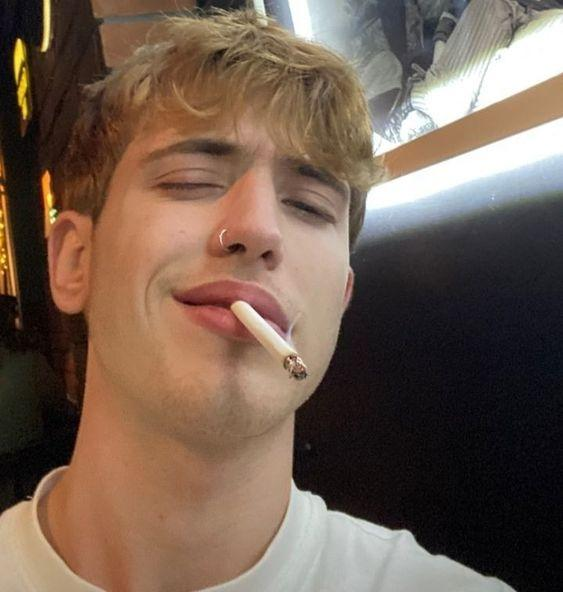cigarette: (230, 300, 312, 382)
